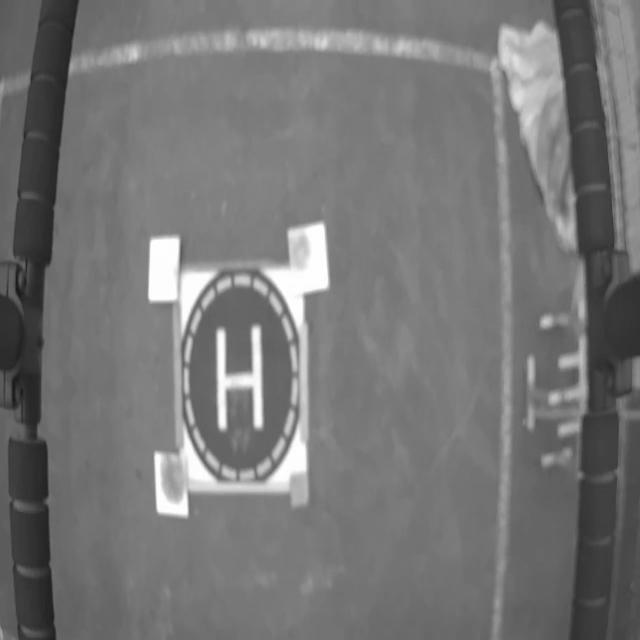Helipad: (216, 323, 263, 431)
